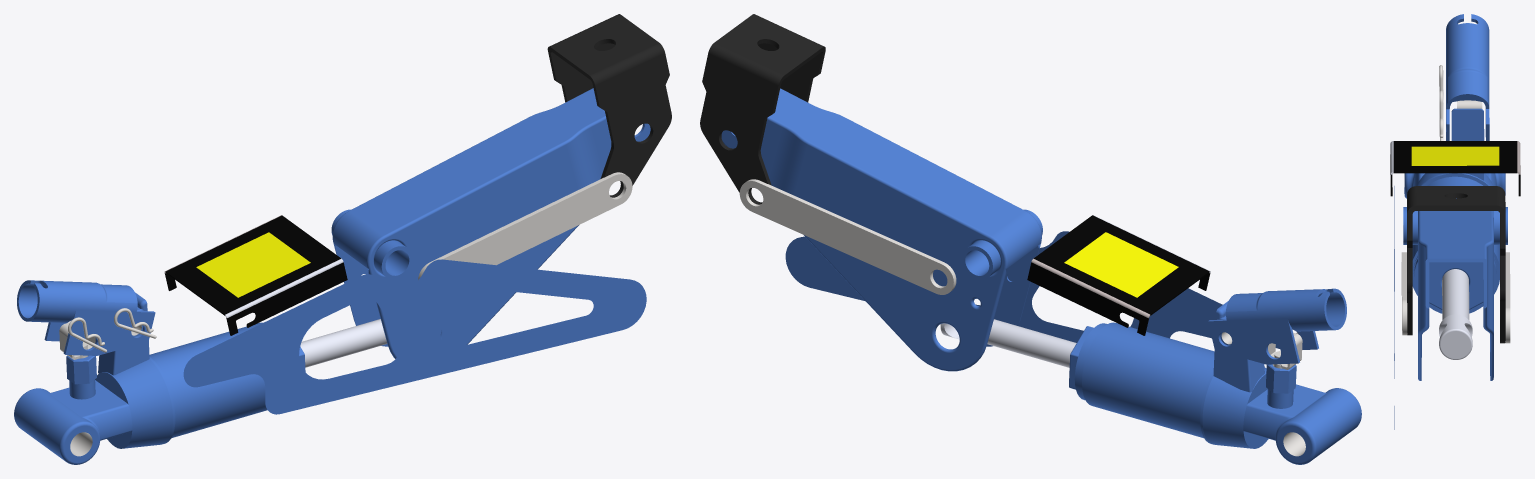
File: Update06.glb
The picture shows the model from 3 angles, left to right: view 1: azimuth 30°, elevation 25°; view 2: azimuth 150°, elevation 25°; view 3: azimuth 270°, elevation 25°; orthographic projection. The views are drawn at different scales.
Visible parts, largest first — view 1: Update06; view 2: Update06; view 3: Update06.
Part boxes in pixels (bbox=[...]): Update06: bbox=[14, 14, 671, 464]; Update06: bbox=[700, 14, 1361, 464]; Update06: bbox=[1390, 14, 1520, 429].
Bounding box in the file's own units: 0.415 × 0.1871 × 0.0722.
